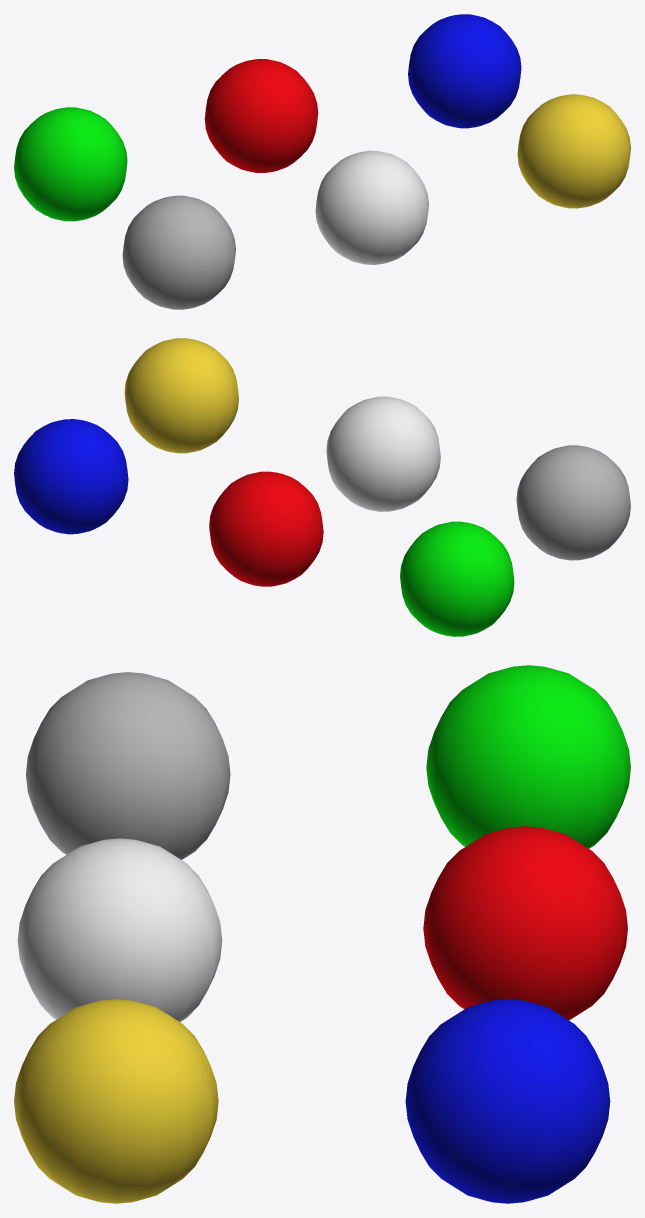
Rendered from PBR.glb.
The picture shows the model from 3 angles, top to bottom: view 1: azimuth 30°, elevation 25°; view 2: azimuth 150°, elevation 25°; view 3: azimuth 270°, elevation 25°; orthographic projection. The views are drawn at different scales.
Visible parts, largest first — view 1: Sphere.004, Sphere.002, Sphere.005, Sphere, Sphere.001, Sphere.003; view 2: Sphere, Sphere.001, Sphere.003, Sphere.004, Sphere.005, Sphere.002; view 3: Sphere, Sphere.004, Sphere.003, Sphere.002, Sphere.005, Sphere.001.
Boxes of the visible parts, x1=… form: Sphere.004: x1=408, y1=14, x2=521, y2=128; Sphere.002: x1=122, y1=195, x2=235, y2=309; Sphere.005: x1=14, y1=107, x2=127, y2=221; Sphere: x1=517, y1=94, x2=630, y2=208; Sphere.001: x1=315, y1=150, x2=428, y2=264; Sphere.003: x1=204, y1=59, x2=318, y2=172; Sphere: x1=124, y1=338, x2=238, y2=453; Sphere.001: x1=326, y1=396, x2=440, y2=511; Sphere.003: x1=209, y1=471, x2=323, y2=586; Sphere.004: x1=14, y1=419, x2=128, y2=534; Sphere.005: x1=400, y1=521, x2=514, y2=636; Sphere.002: x1=516, y1=445, x2=630, y2=560; Sphere: x1=14, y1=999, x2=218, y2=1203; Sphere.004: x1=405, y1=999, x2=610, y2=1203; Sphere.003: x1=423, y1=826, x2=627, y2=1020; Sphere.002: x1=26, y1=672, x2=230, y2=859; Sphere.005: x1=426, y1=665, x2=630, y2=848; Sphere.001: x1=17, y1=838, x2=222, y2=1021.
Bounding box in the file's own units: 4.95 × 1.08 × 3.01.
